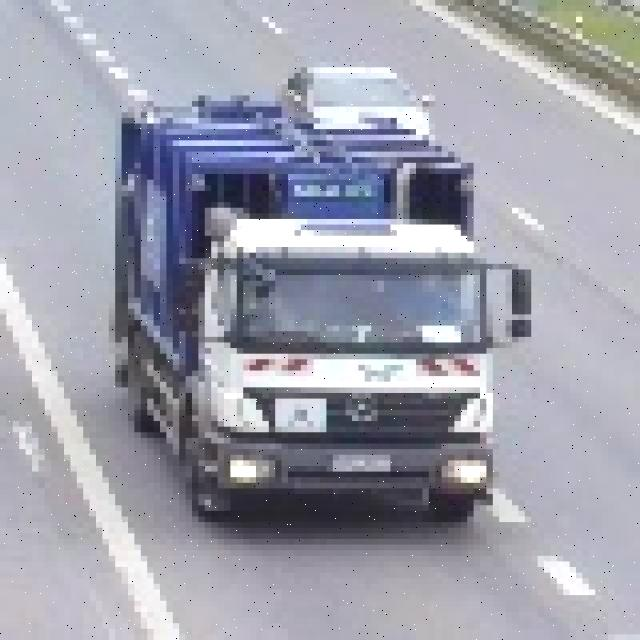truck: (115, 84, 538, 528)
